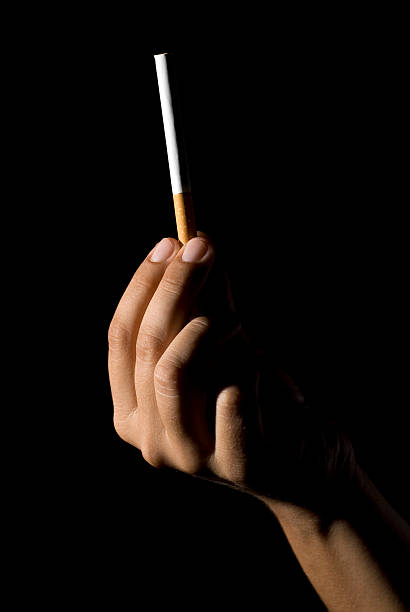cigarette: (151, 51, 194, 247)
